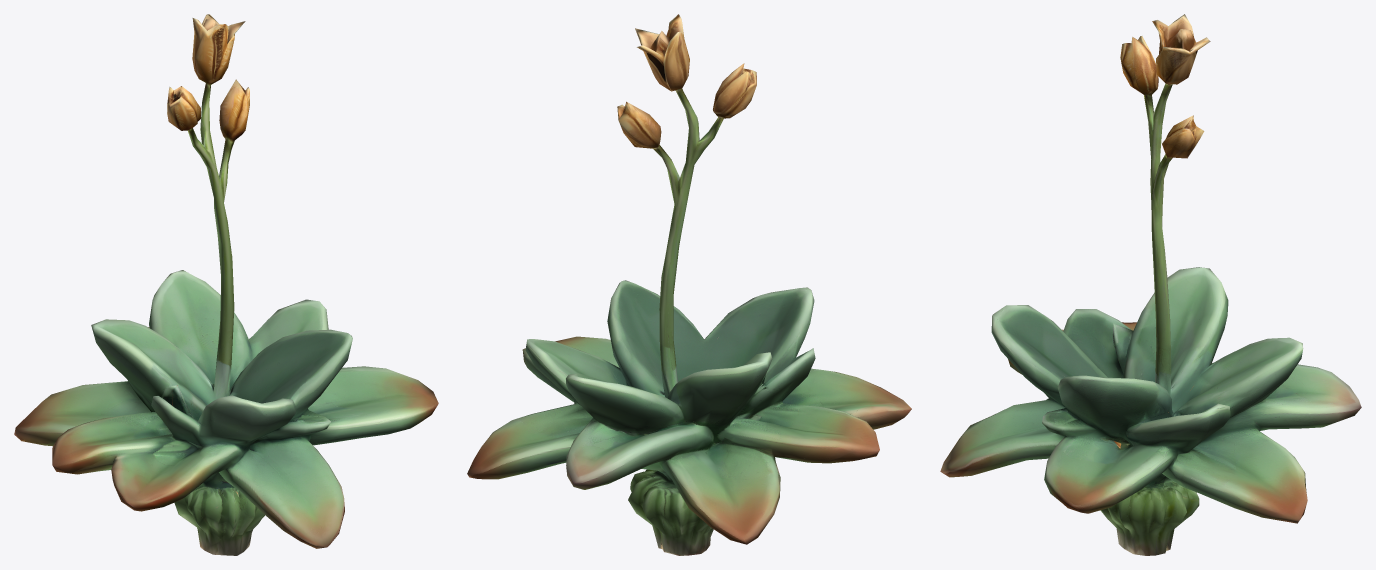
The picture shows the model from 3 angles, left to right: view 1: azimuth 30°, elevation 25°; view 2: azimuth 150°, elevation 25°; view 3: azimuth 270°, elevation 25°; orthographic projection. The views are drawn at different scales.
Parts seen in each view (by area): view 1: Mesh_0; view 2: Mesh_0; view 3: Mesh_0.
Boxes of the visible parts, x1,y1,x2,y2 form: Mesh_0: [14, 14, 438, 555]; Mesh_0: [467, 14, 911, 555]; Mesh_0: [940, 14, 1361, 555].
Bounding box in the file's own units: 1.4 × 1.91 × 1.39.
1 material, 1 textured.
